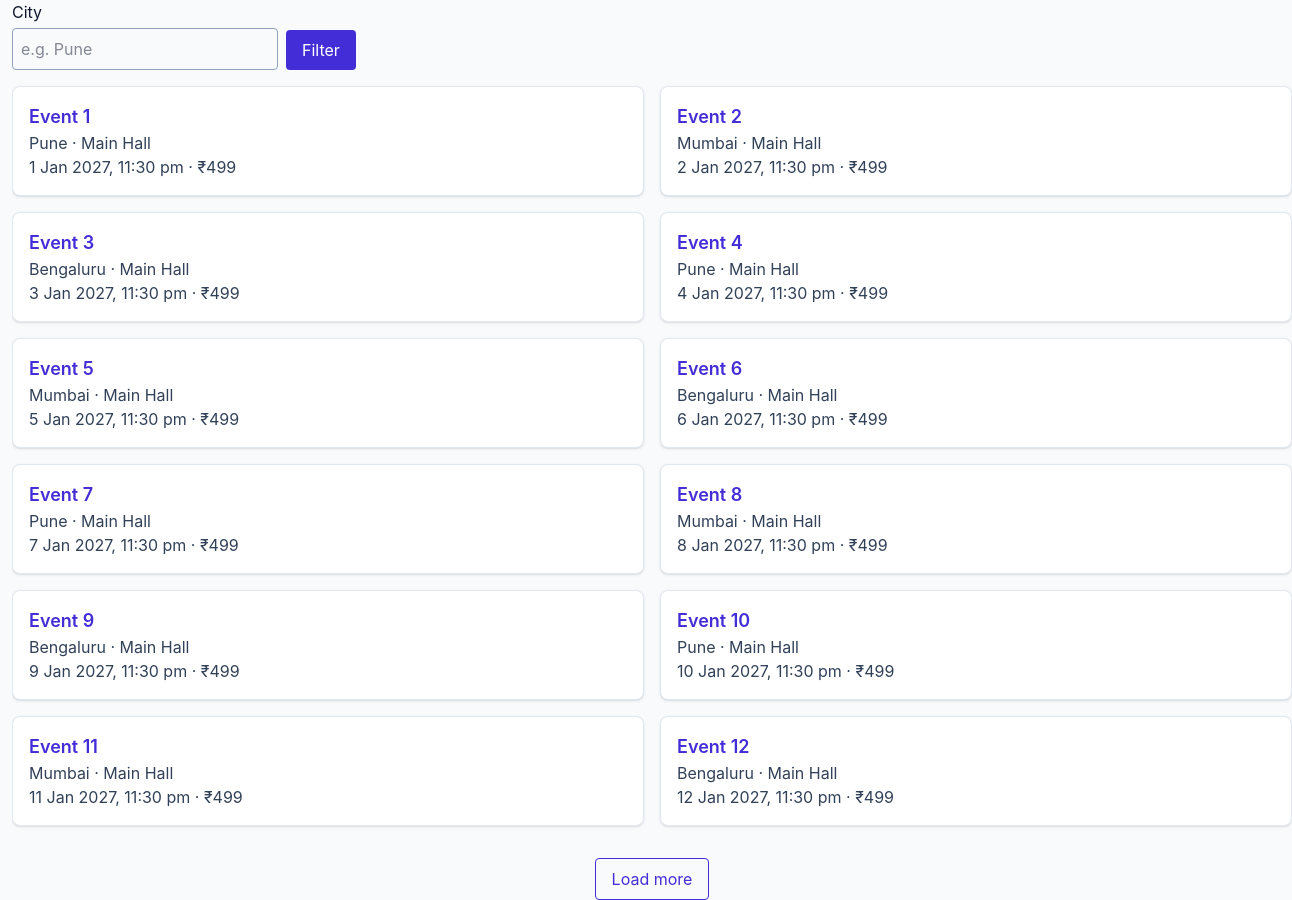
Test: EventList › shows the first page of events, then the next page after 'Load more'
(page scrolled)
Click the button "Load more".
click(652, 879)  # box 595,858 -> 709,899
(page scrolled)
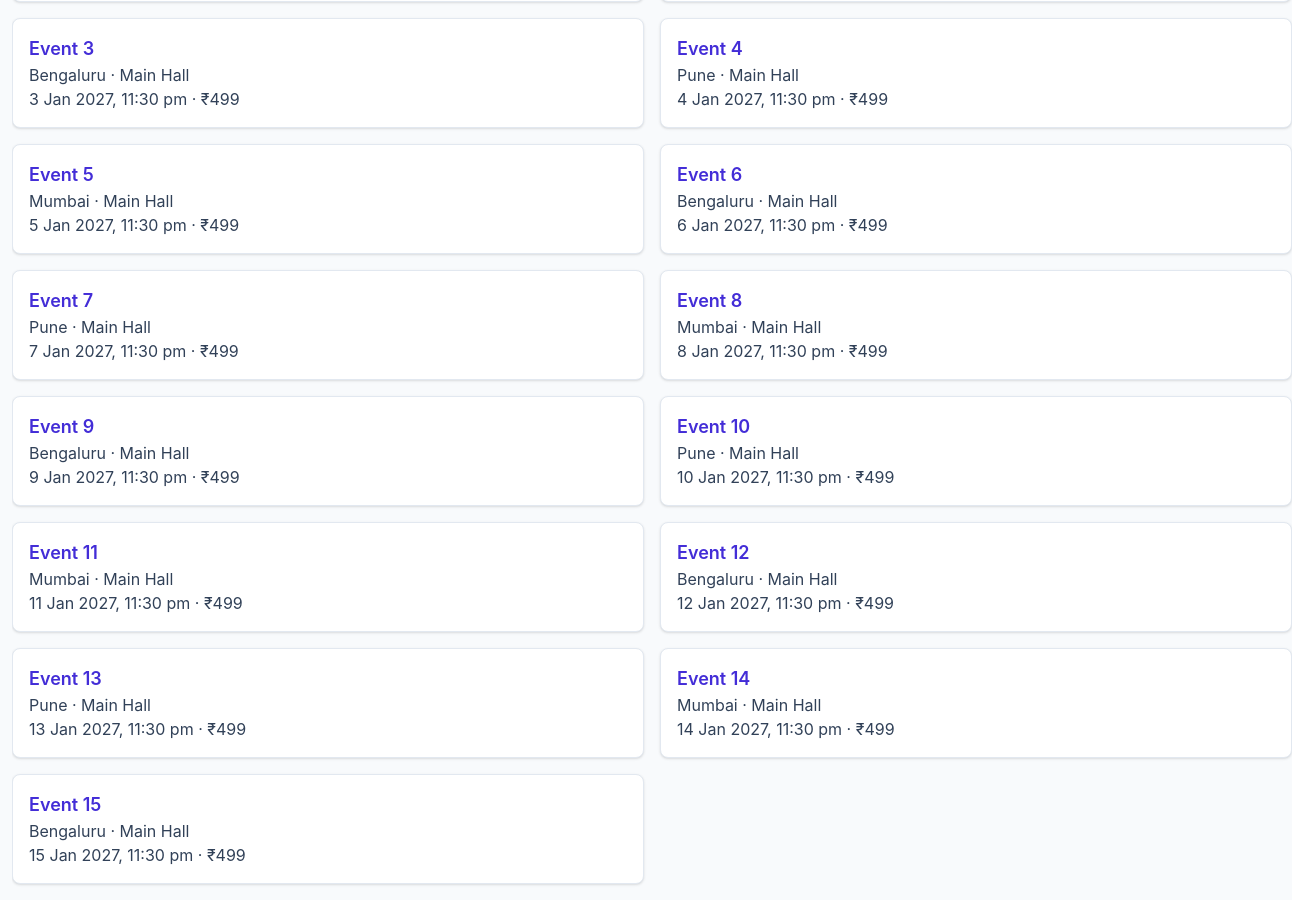
Now the link "Event 15" is shown, box 29,794 -> 101,815
Now the button "Load more" is gone
